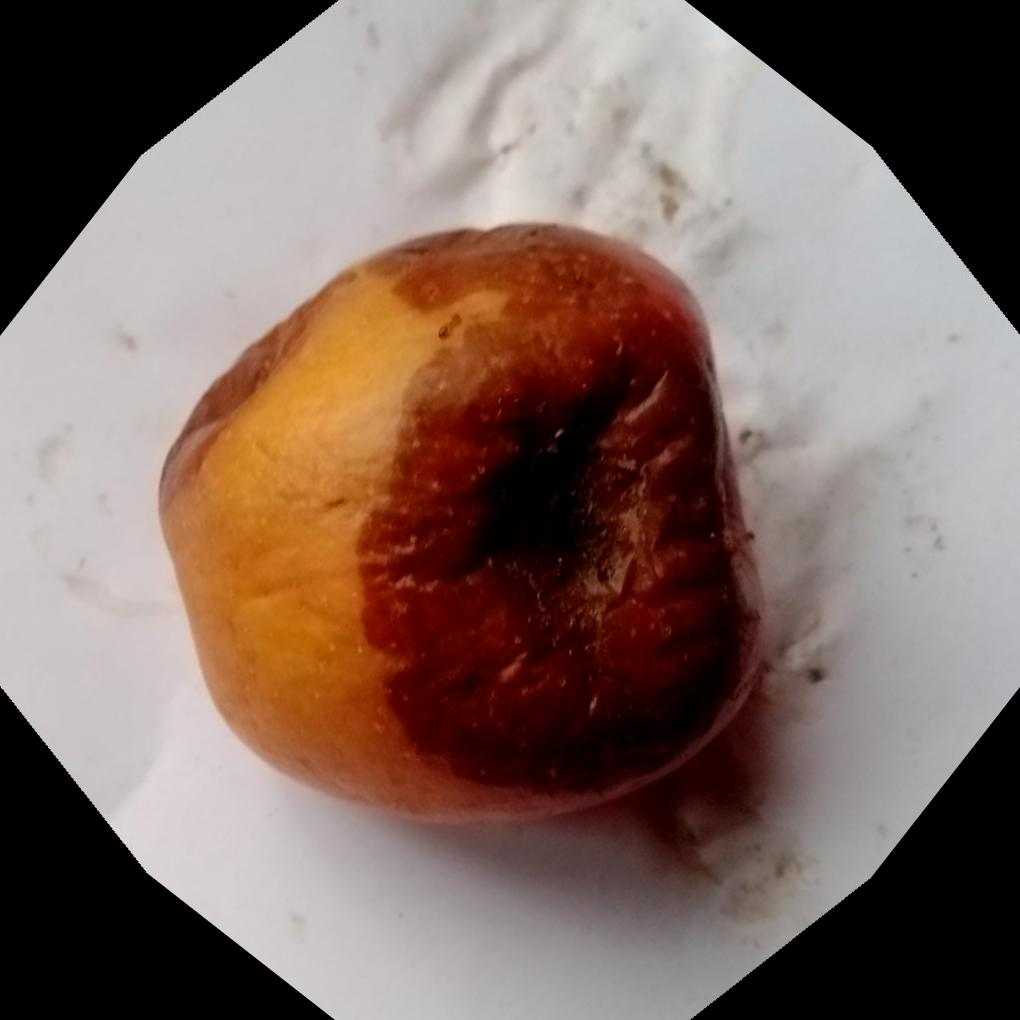FreshOrange: (156, 221, 774, 829)
